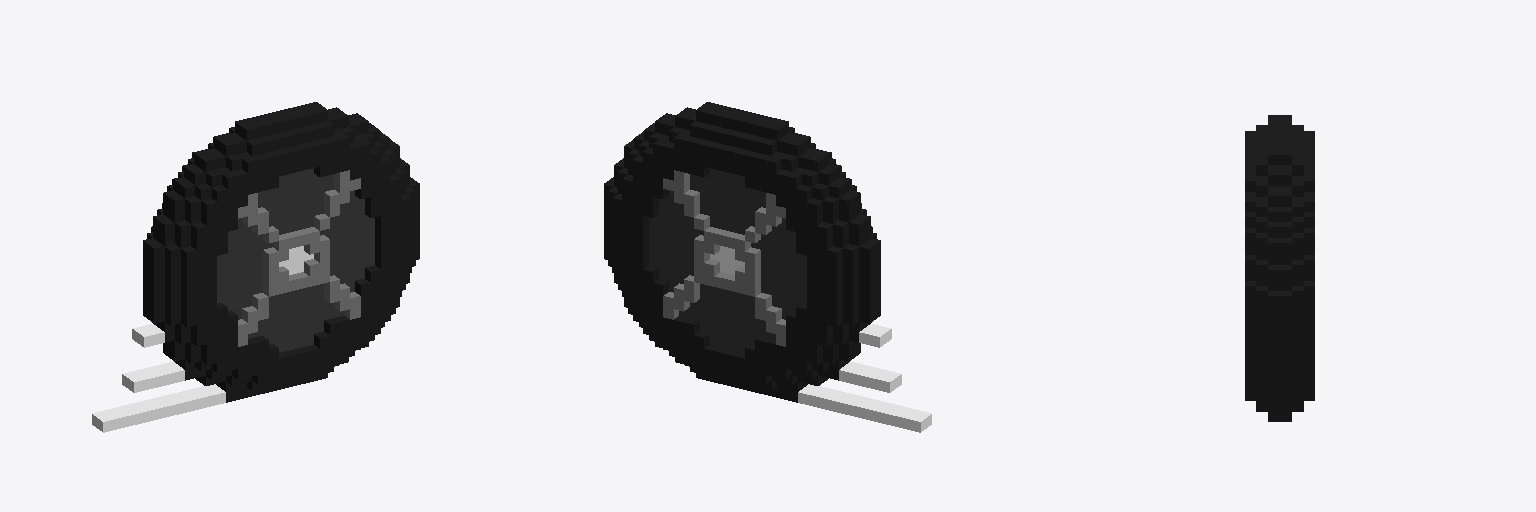
3 renders of one model, left to right at view 1: azimuth 30°, elevation 25°; view 2: azimuth 150°, elevation 25°; view 3: azimuth 270°, elevation 25°, orthographic.
Parts seen in each view (by area): view 1: object 1; view 2: object 1; view 3: object 1.
Boxes of the visible parts, box(x1,y1,x2,y2) form: object 1: box(92, 102, 419, 432); object 1: box(604, 102, 931, 432); object 1: box(1245, 115, 1314, 421).
Bounding box in the file's own units: 3.1 × 2.5 × 0.6.
Materials: 1 (1 with a texture image).